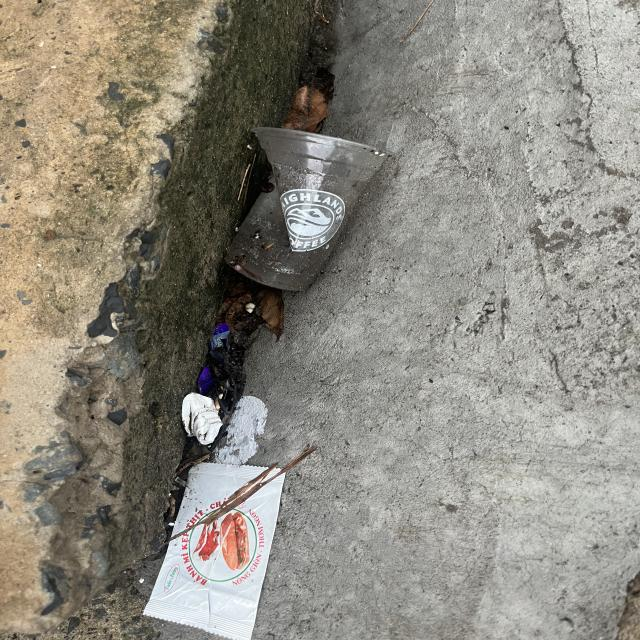packet: (140, 461, 286, 640)
plastic glass: (221, 125, 395, 292)
